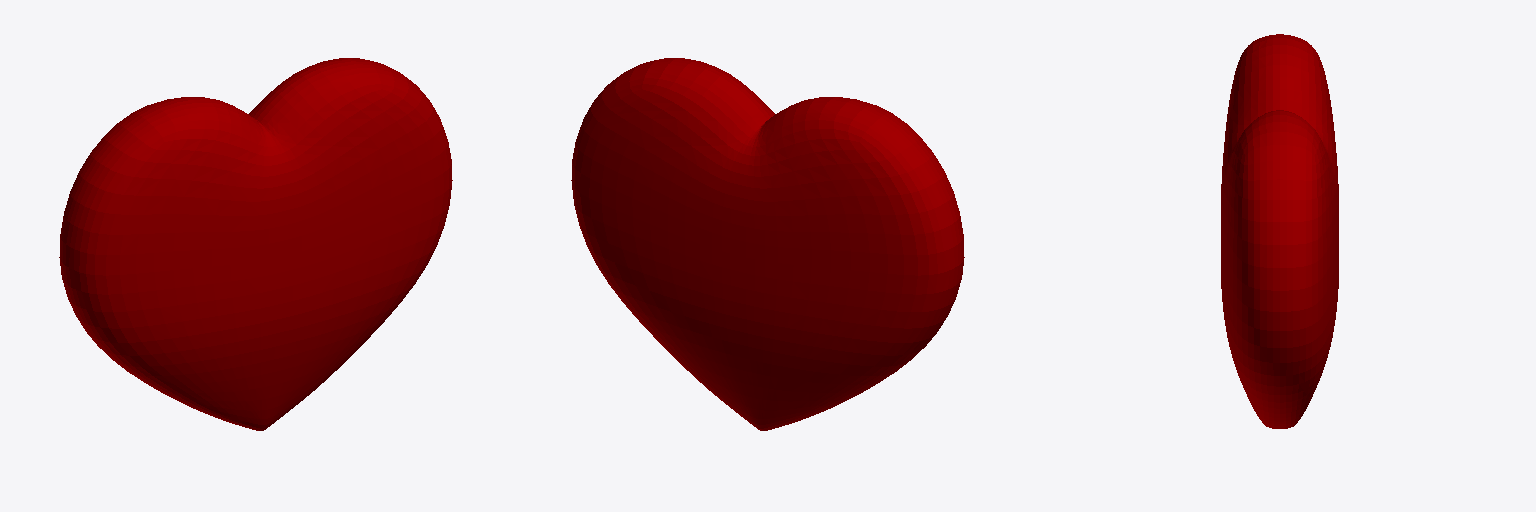
The model's file is heart.obj.
3 views of the same model, side by side, from view 1: azimuth 30°, elevation 25°; view 2: azimuth 150°, elevation 25°; view 3: azimuth 270°, elevation 25° (orthographic).
Visible parts, largest first — view 1: heart; view 2: heart; view 3: heart.
Part boxes in pixels (bbox=[...]): heart: bbox=[59, 58, 452, 430]; heart: bbox=[571, 58, 964, 430]; heart: bbox=[1221, 34, 1338, 428].
Bounding box in the file's own units: 1.3 × 1.13 × 0.3524.